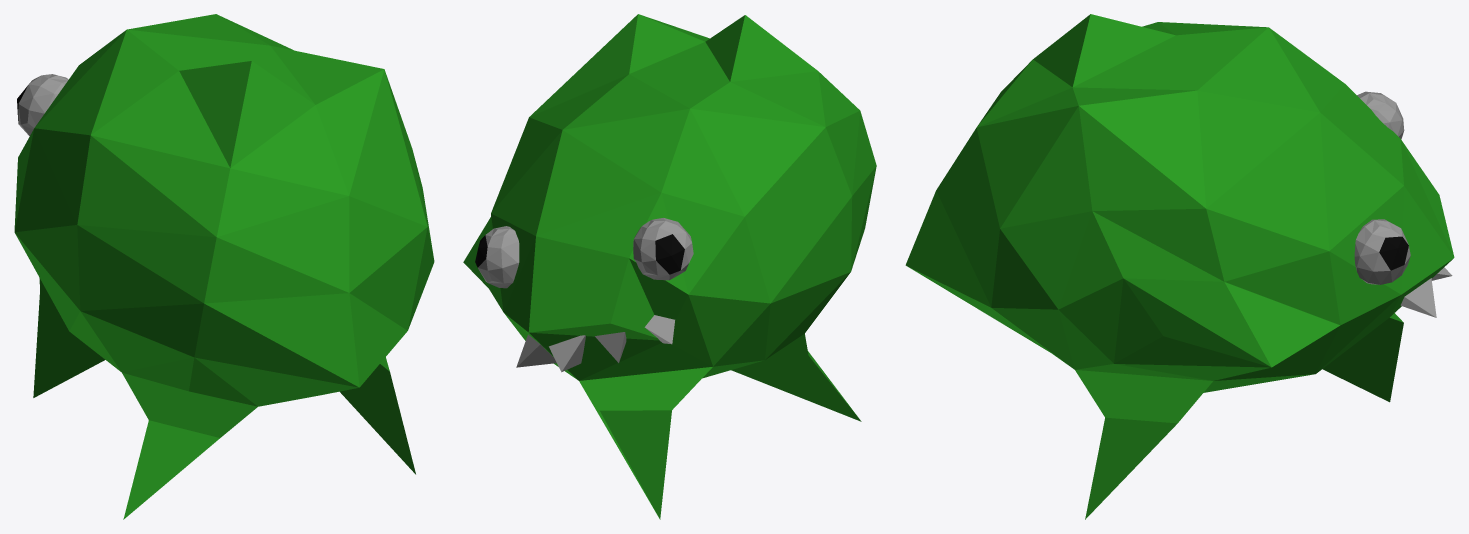
File: Start_planet_aliens_001.FBX
3 views of the same model, side by side, from view 1: azimuth 30°, elevation 25°; view 2: azimuth 150°, elevation 25°; view 3: azimuth 270°, elevation 25° (orthographic). The views are drawn at different scales.
Parts seen in each view (by area): view 1: START_ALIEN; view 2: START_ALIEN; view 3: START_ALIEN.
Boxes of the visible parts, bbox=[...] form: START_ALIEN: bbox=[14, 14, 434, 519]; START_ALIEN: bbox=[463, 14, 876, 519]; START_ALIEN: bbox=[905, 14, 1454, 519].
Bounding box in the file's own units: 1.17 × 1.37 × 1.59.
